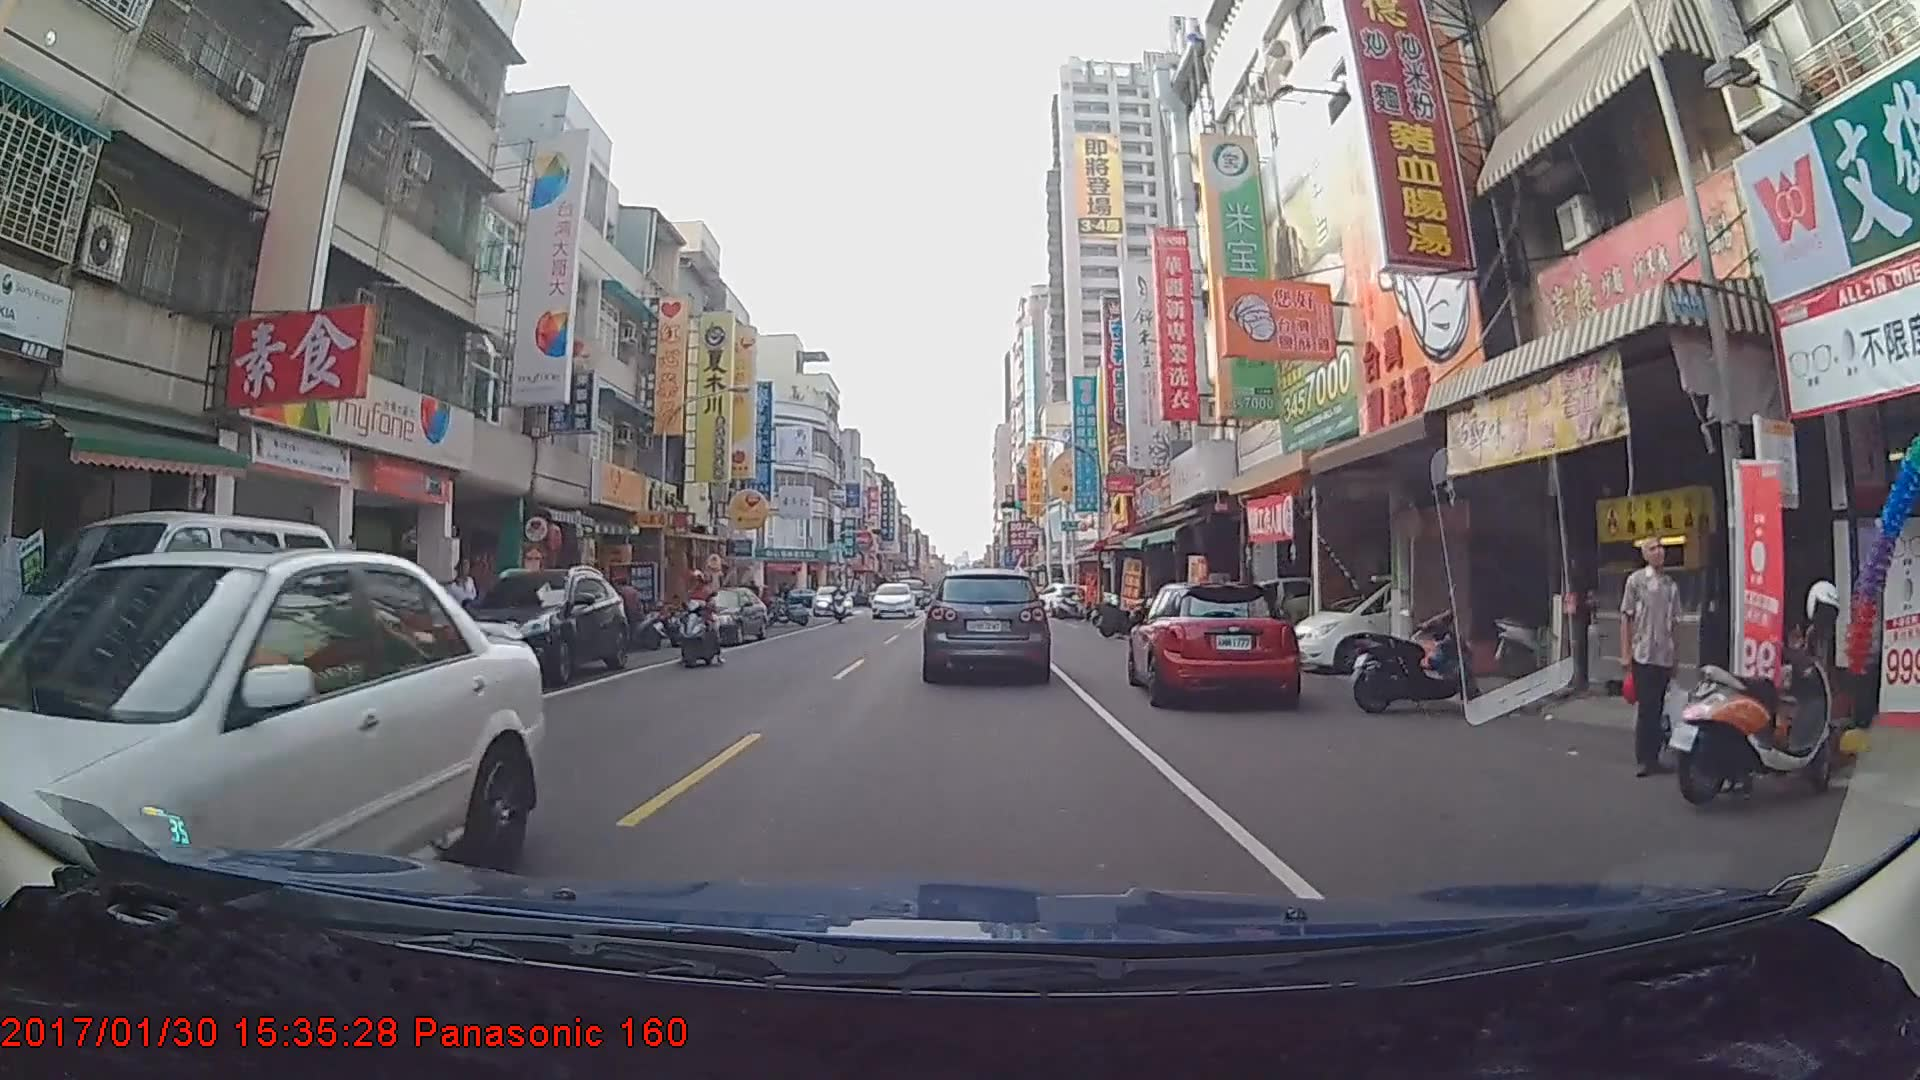pedestrian: (1621, 531, 1688, 783), (441, 560, 479, 666)
rider: (678, 573, 725, 668)
vehicle: (0, 544, 539, 980), (1129, 577, 1300, 707), (446, 565, 628, 684), (924, 565, 1048, 680), (667, 584, 769, 645), (868, 580, 915, 618), (810, 585, 851, 617)
